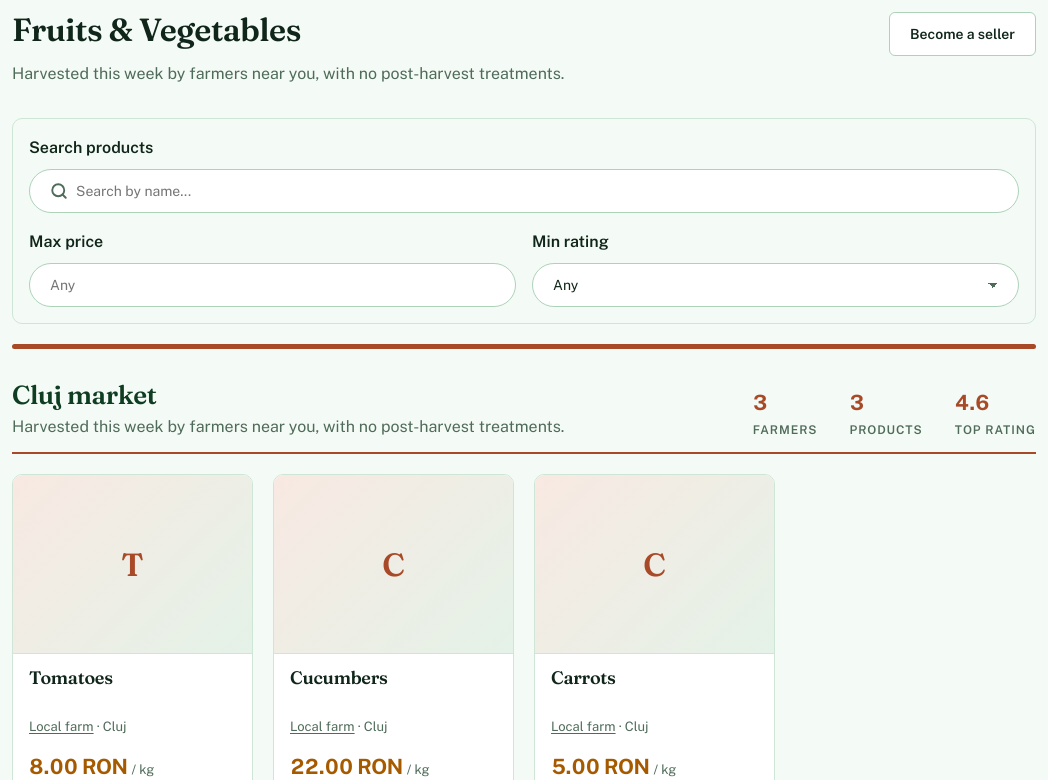
MarketsPage filters › narrows by price ceiling, inclusively
Expected: the heading "Tomatoes" is shown, [29,666,113,689]
In the number field labelled "Max price": point(272, 285) [29,263,516,307], type "8"
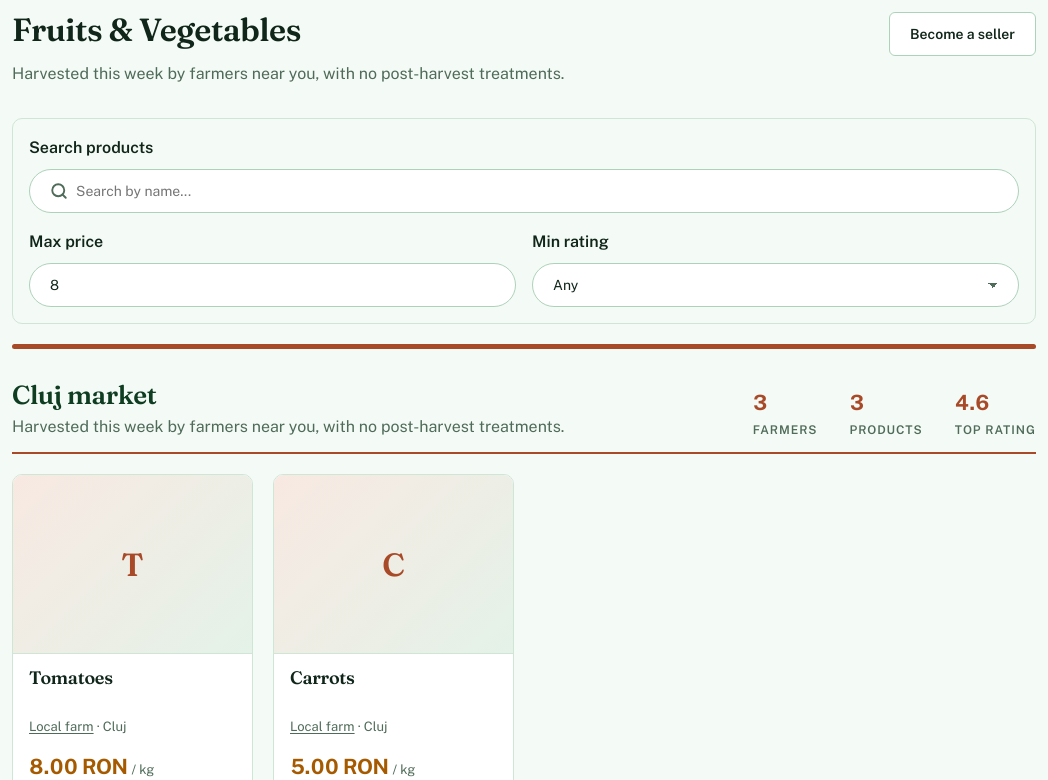
Expected: the heading "Tomatoes" is shown, [29,666,113,689]
Expected: the heading "Cucumbers" is gone
